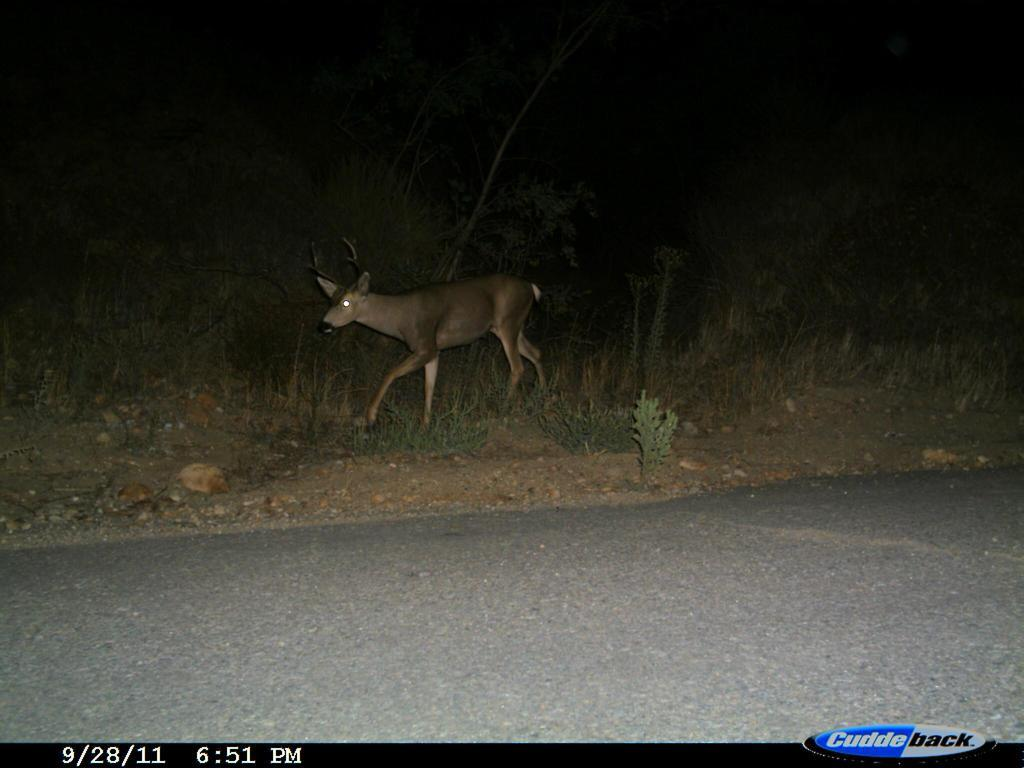deer: (304, 233, 556, 434)
